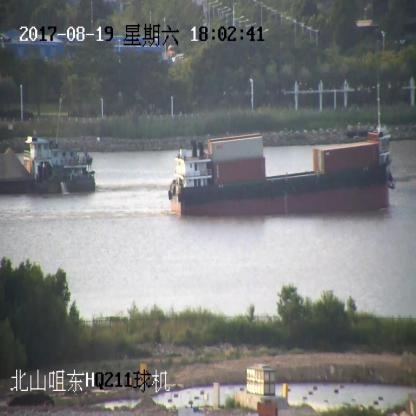Container Ship: (169, 106, 396, 219)
